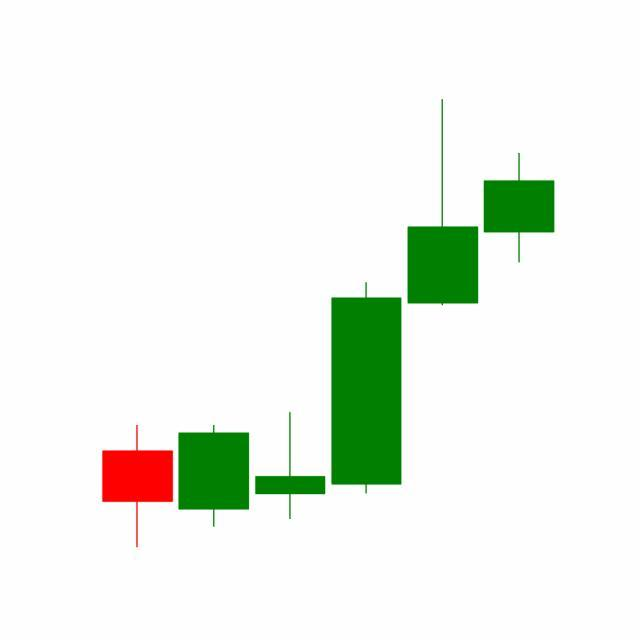Advance Block: (326, 99, 555, 499)
